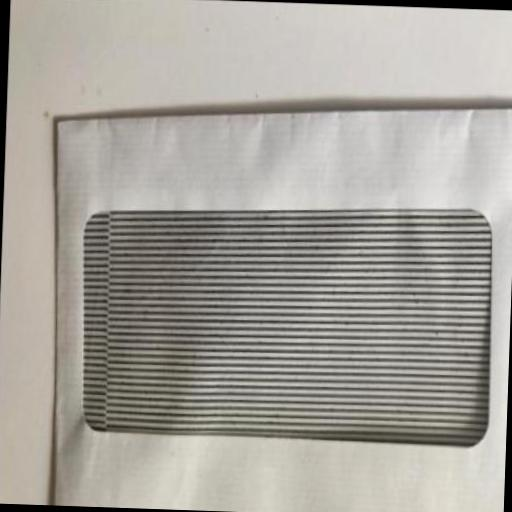paper: (40, 89, 512, 512)
